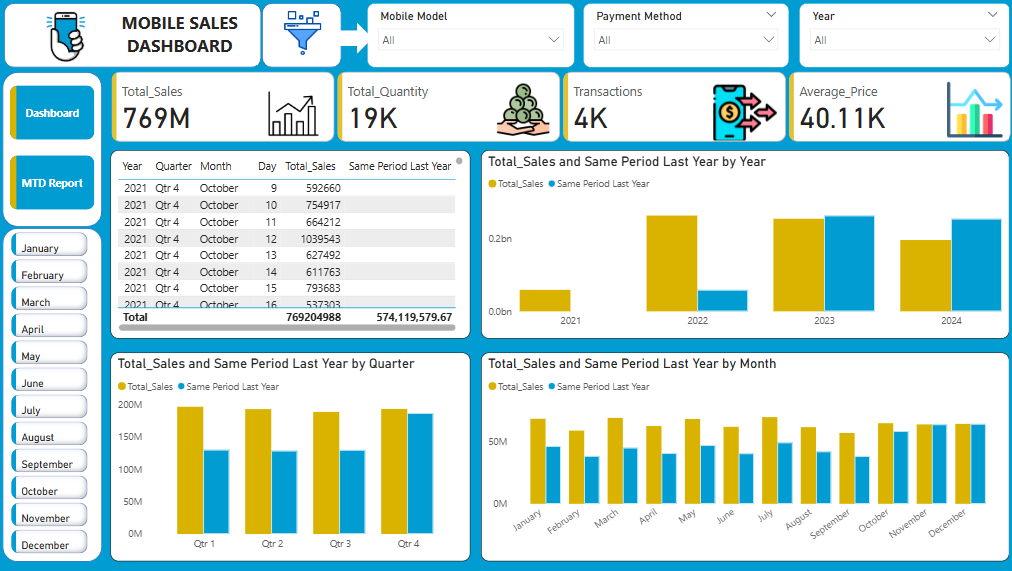

Layout of this report page (visuals, bound fields, positions):
{"tool":"powerbi","page":{"name":"Same Period Last Year","canvas":[1280,720],"ordinal":2},"visuals":[{"type":"shape","box":[5.1,89.8,125.4,194.9],"z":0},{"type":"cardVisual","fields":{"Data":["Sales_Data.Total_Sales","Sales_Data.Total_Quantity","Sales_Data.Transactions","Sales_Data.Average_Price"]},"box":[137.3,84.7,1142.4,98.3],"z":1000},{"type":"slicer","fields":{"Values":["Sales_Data.Mobile Model"]},"box":[464.4,3.4,261,81.4],"z":2000},{"type":"slicer","fields":{"Values":["Sales_Data.Payment Method"]},"box":[736.4,3.4,259.3,81.4],"z":3000},{"type":"slicer","fields":{"Values":["Custom_Calendar.Date.Variation.Date Hierarchy.Year","Custom_Calendar.Date.Variation.Date Hierarchy.Quarter","Custom_Calendar.Date.Variation.Date Hierarchy.Month","Custom_Calendar.Date.Variation.Date Hierarchy.Day"]},"box":[1006.8,3.4,266.1,81.4],"z":4000},{"type":"shape","box":[332.2,3.4,100,81.4],"z":5000},{"type":"image","box":[333.9,8.5,98.3,67.8],"z":6000},{"type":"shape","box":[420.6,28.6,50.8,39.7],"z":7000},{"type":"shape","box":[8.5,3.4,323.7,81.4],"z":8000},{"type":"textbox","box":[130.4,7.6,196.5,73.7],"z":9000},{"type":"image","box":[0,0,171.2,91.5],"z":10000},{"type":"shape","box":[5.1,286.4,125.4,420.3],"z":11000},{"type":"advancedSlicerVisual","fields":{"Values":["Custom_Calendar.Date.Variation.Date Hierarchy.Month"]},"box":[11.9,286.4,106.8,420.3],"z":12000},{"type":"tableEx","fields":{"Values":["Custom_Calendar.Date.Variation.Date Hierarchy.Year","Custom_Calendar.Date.Variation.Date Hierarchy.Quarter","Custom_Calendar.Date.Variation.Date Hierarchy.Month","Custom_Calendar.Date.Variation.Date Hierarchy.Day","Sales_Data.Total_Sales","Sales_Data.Same Period Last Year"]},"box":[142.4,188.1,452.5,237.3],"z":13000},{"type":"clusteredColumnChart","fields":{"Category":["Custom_Calendar.Date.Variation.Date Hierarchy.Year","Custom_Calendar.Date.Variation.Date Hierarchy.Quarter","Custom_Calendar.Date.Variation.Date Hierarchy.Month","Custom_Calendar.Date.Variation.Date Hierarchy.Day"],"Y":["Sales_Data.Total_Sales","Sales_Data.Same Period Last Year"]},"box":[608.5,188.1,664.4,237.3],"z":14000},{"type":"clusteredColumnChart","fields":{"Category":["Custom_Calendar.Date.Variation.Date Hierarchy.Year","Custom_Calendar.Date.Variation.Date Hierarchy.Quarter","Custom_Calendar.Date.Variation.Date Hierarchy.Month","Custom_Calendar.Date.Variation.Date Hierarchy.Day"],"Y":["Sales_Data.Total_Sales","Sales_Data.Same Period Last Year"]},"box":[142.4,444.1,452.5,262.7],"z":15000},{"type":"clusteredColumnChart","fields":{"Category":["Custom_Calendar.Date.Variation.Date Hierarchy.Year","Custom_Calendar.Date.Variation.Date Hierarchy.Quarter","Custom_Calendar.Date.Variation.Date Hierarchy.Month","Custom_Calendar.Date.Variation.Date Hierarchy.Day"],"Y":["Sales_Data.Total_Sales","Sales_Data.Same Period Last Year"]},"box":[608.5,444.1,664.4,262.7],"z":16000},{"type":"pageNavigator","box":[15.3,108.5,106.8,157.6],"z":17000}]}

Visuals, with their boxes in screenshot pixels (x1, y1, x2, y2), scaled from the page's 1280x720 canvas onto the 1012x571 screenshot:
shape: x1=4 y1=71 x2=103 y2=226
cardVisual - Sales_Data.Total_Sales x Sales_Data.Total_Quantity: x1=109 y1=67 x2=1011 y2=145
slicer - Sales_Data.Mobile Model: x1=367 y1=3 x2=574 y2=67
slicer - Sales_Data.Payment Method: x1=582 y1=3 x2=787 y2=67
slicer - Custom_Calendar.Date.Variation.Date Hierarchy.Year x Custom_Calendar.Date.Variation.Date Hierarchy.Quarter: x1=796 y1=3 x2=1006 y2=67
shape: x1=263 y1=3 x2=342 y2=67
image: x1=264 y1=7 x2=342 y2=61
shape: x1=333 y1=23 x2=373 y2=54
shape: x1=7 y1=3 x2=263 y2=67
textbox: x1=103 y1=6 x2=258 y2=64
image: x1=0 y1=0 x2=135 y2=73
shape: x1=4 y1=227 x2=103 y2=560
advancedSlicerVisual - Custom_Calendar.Date.Variation.Date Hierarchy.Month: x1=9 y1=227 x2=94 y2=560
tableEx - Custom_Calendar.Date.Variation.Date Hierarchy.Year x Custom_Calendar.Date.Variation.Date Hierarchy.Quarter: x1=113 y1=149 x2=470 y2=337
clusteredColumnChart - Custom_Calendar.Date.Variation.Date Hierarchy.Year x Custom_Calendar.Date.Variation.Date Hierarchy.Quarter: x1=481 y1=149 x2=1006 y2=337
clusteredColumnChart - Custom_Calendar.Date.Variation.Date Hierarchy.Year x Custom_Calendar.Date.Variation.Date Hierarchy.Quarter: x1=113 y1=352 x2=470 y2=561
clusteredColumnChart - Custom_Calendar.Date.Variation.Date Hierarchy.Year x Custom_Calendar.Date.Variation.Date Hierarchy.Quarter: x1=481 y1=352 x2=1006 y2=561
pageNavigator: x1=12 y1=86 x2=97 y2=211
